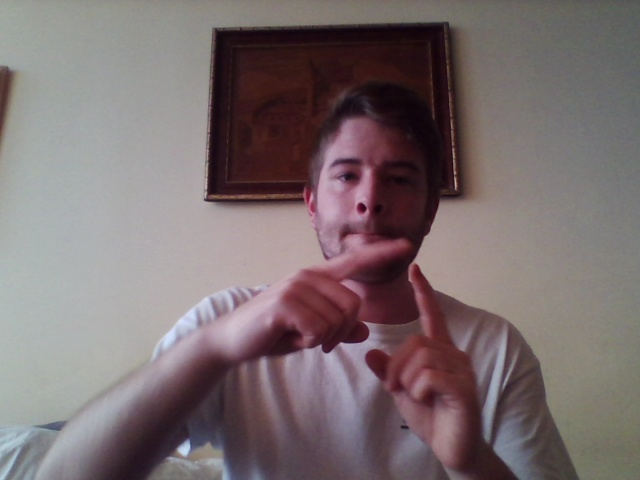kad: (227, 236, 484, 466)
